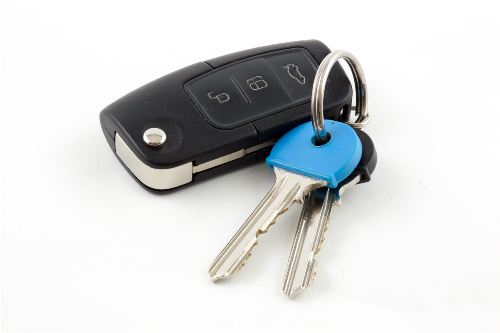key: (209, 118, 378, 299)
